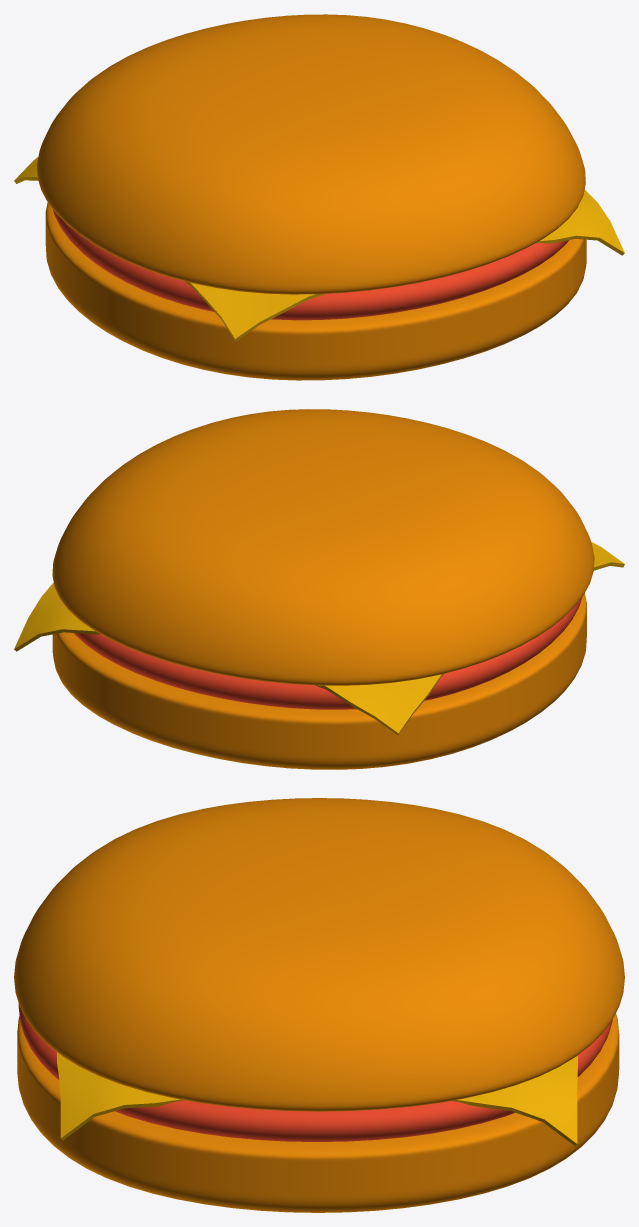
The model's file is Hamburguer.glb.
3 views of the same model, one above another, from view 1: azimuth 30°, elevation 25°; view 2: azimuth 150°, elevation 25°; view 3: azimuth 270°, elevation 25° (orthographic). The views are drawn at different scales.
Parts seen in each view (by area): view 1: Cube.002, Cube, Cube.001, Plane; view 2: Cube.002, Cube, Cube.001, Plane; view 3: Cube.002, Cube, Cube.001, Plane.
Boxes of the visible parts, x1,y1,x2,y2 form: Cube.002: (37, 14, 585, 294); Cube: (45, 203, 586, 380); Cube.001: (52, 209, 568, 320); Plane: (14, 157, 624, 341); Cube.002: (52, 409, 594, 685); Cube: (52, 593, 586, 769); Cube.001: (74, 597, 582, 709); Plane: (14, 542, 624, 734); Cube.002: (14, 798, 624, 1111); Cube: (17, 1013, 619, 1212); Cube.001: (18, 1004, 612, 1141); Plane: (57, 1052, 577, 1145).
Size of the model in its own units: 9.53 by 4.16 by 9.51.
